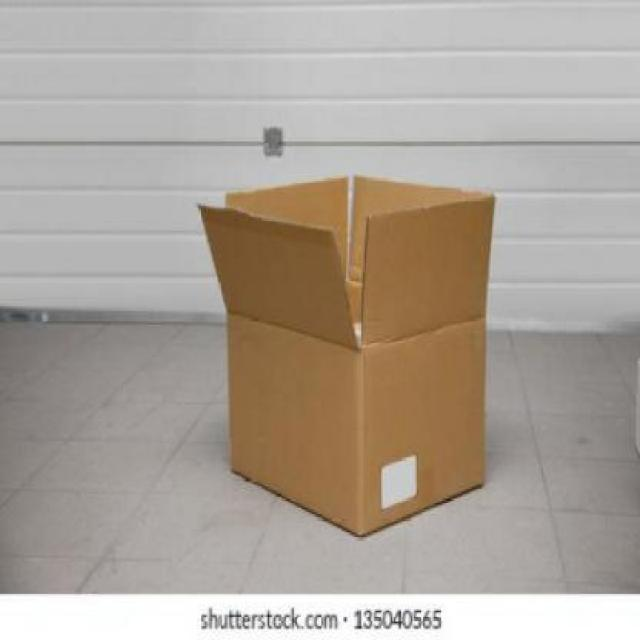box: (195, 172, 496, 543)
